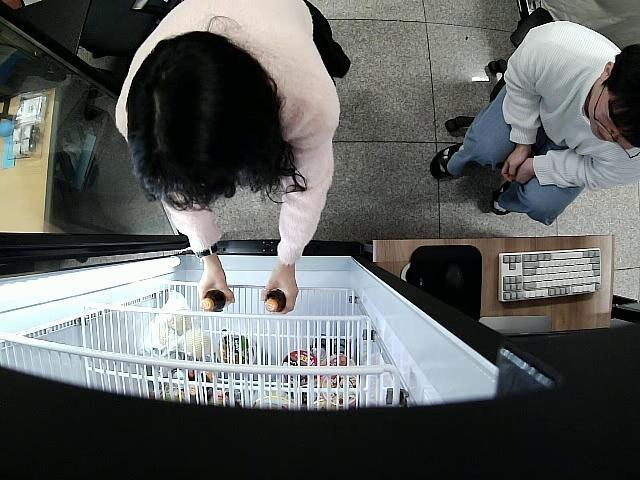17_vita500: (200, 290, 234, 312), (264, 290, 285, 313)
